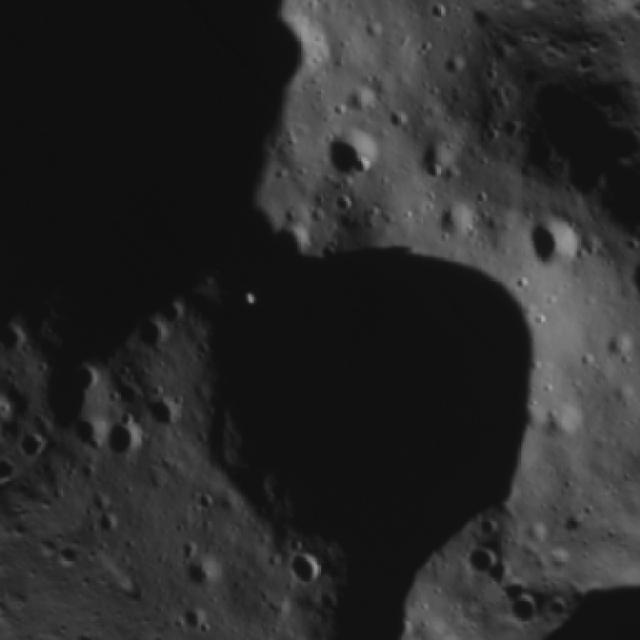crater: (83, 98, 640, 640), (487, 73, 613, 207), (23, 348, 123, 447), (510, 201, 592, 282), (308, 110, 388, 188), (577, 167, 640, 253), (89, 402, 160, 471), (268, 534, 334, 600), (168, 534, 230, 598), (456, 531, 516, 589), (403, 143, 460, 200), (421, 190, 477, 248), (120, 305, 175, 360), (136, 379, 187, 430), (6, 413, 57, 464), (78, 498, 128, 547), (164, 592, 211, 640), (0, 309, 38, 365), (611, 241, 640, 313), (0, 369, 20, 431), (197, 631, 245, 640), (276, 638, 338, 640)
